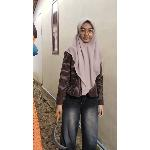Celurit: (46, 108, 76, 150)
